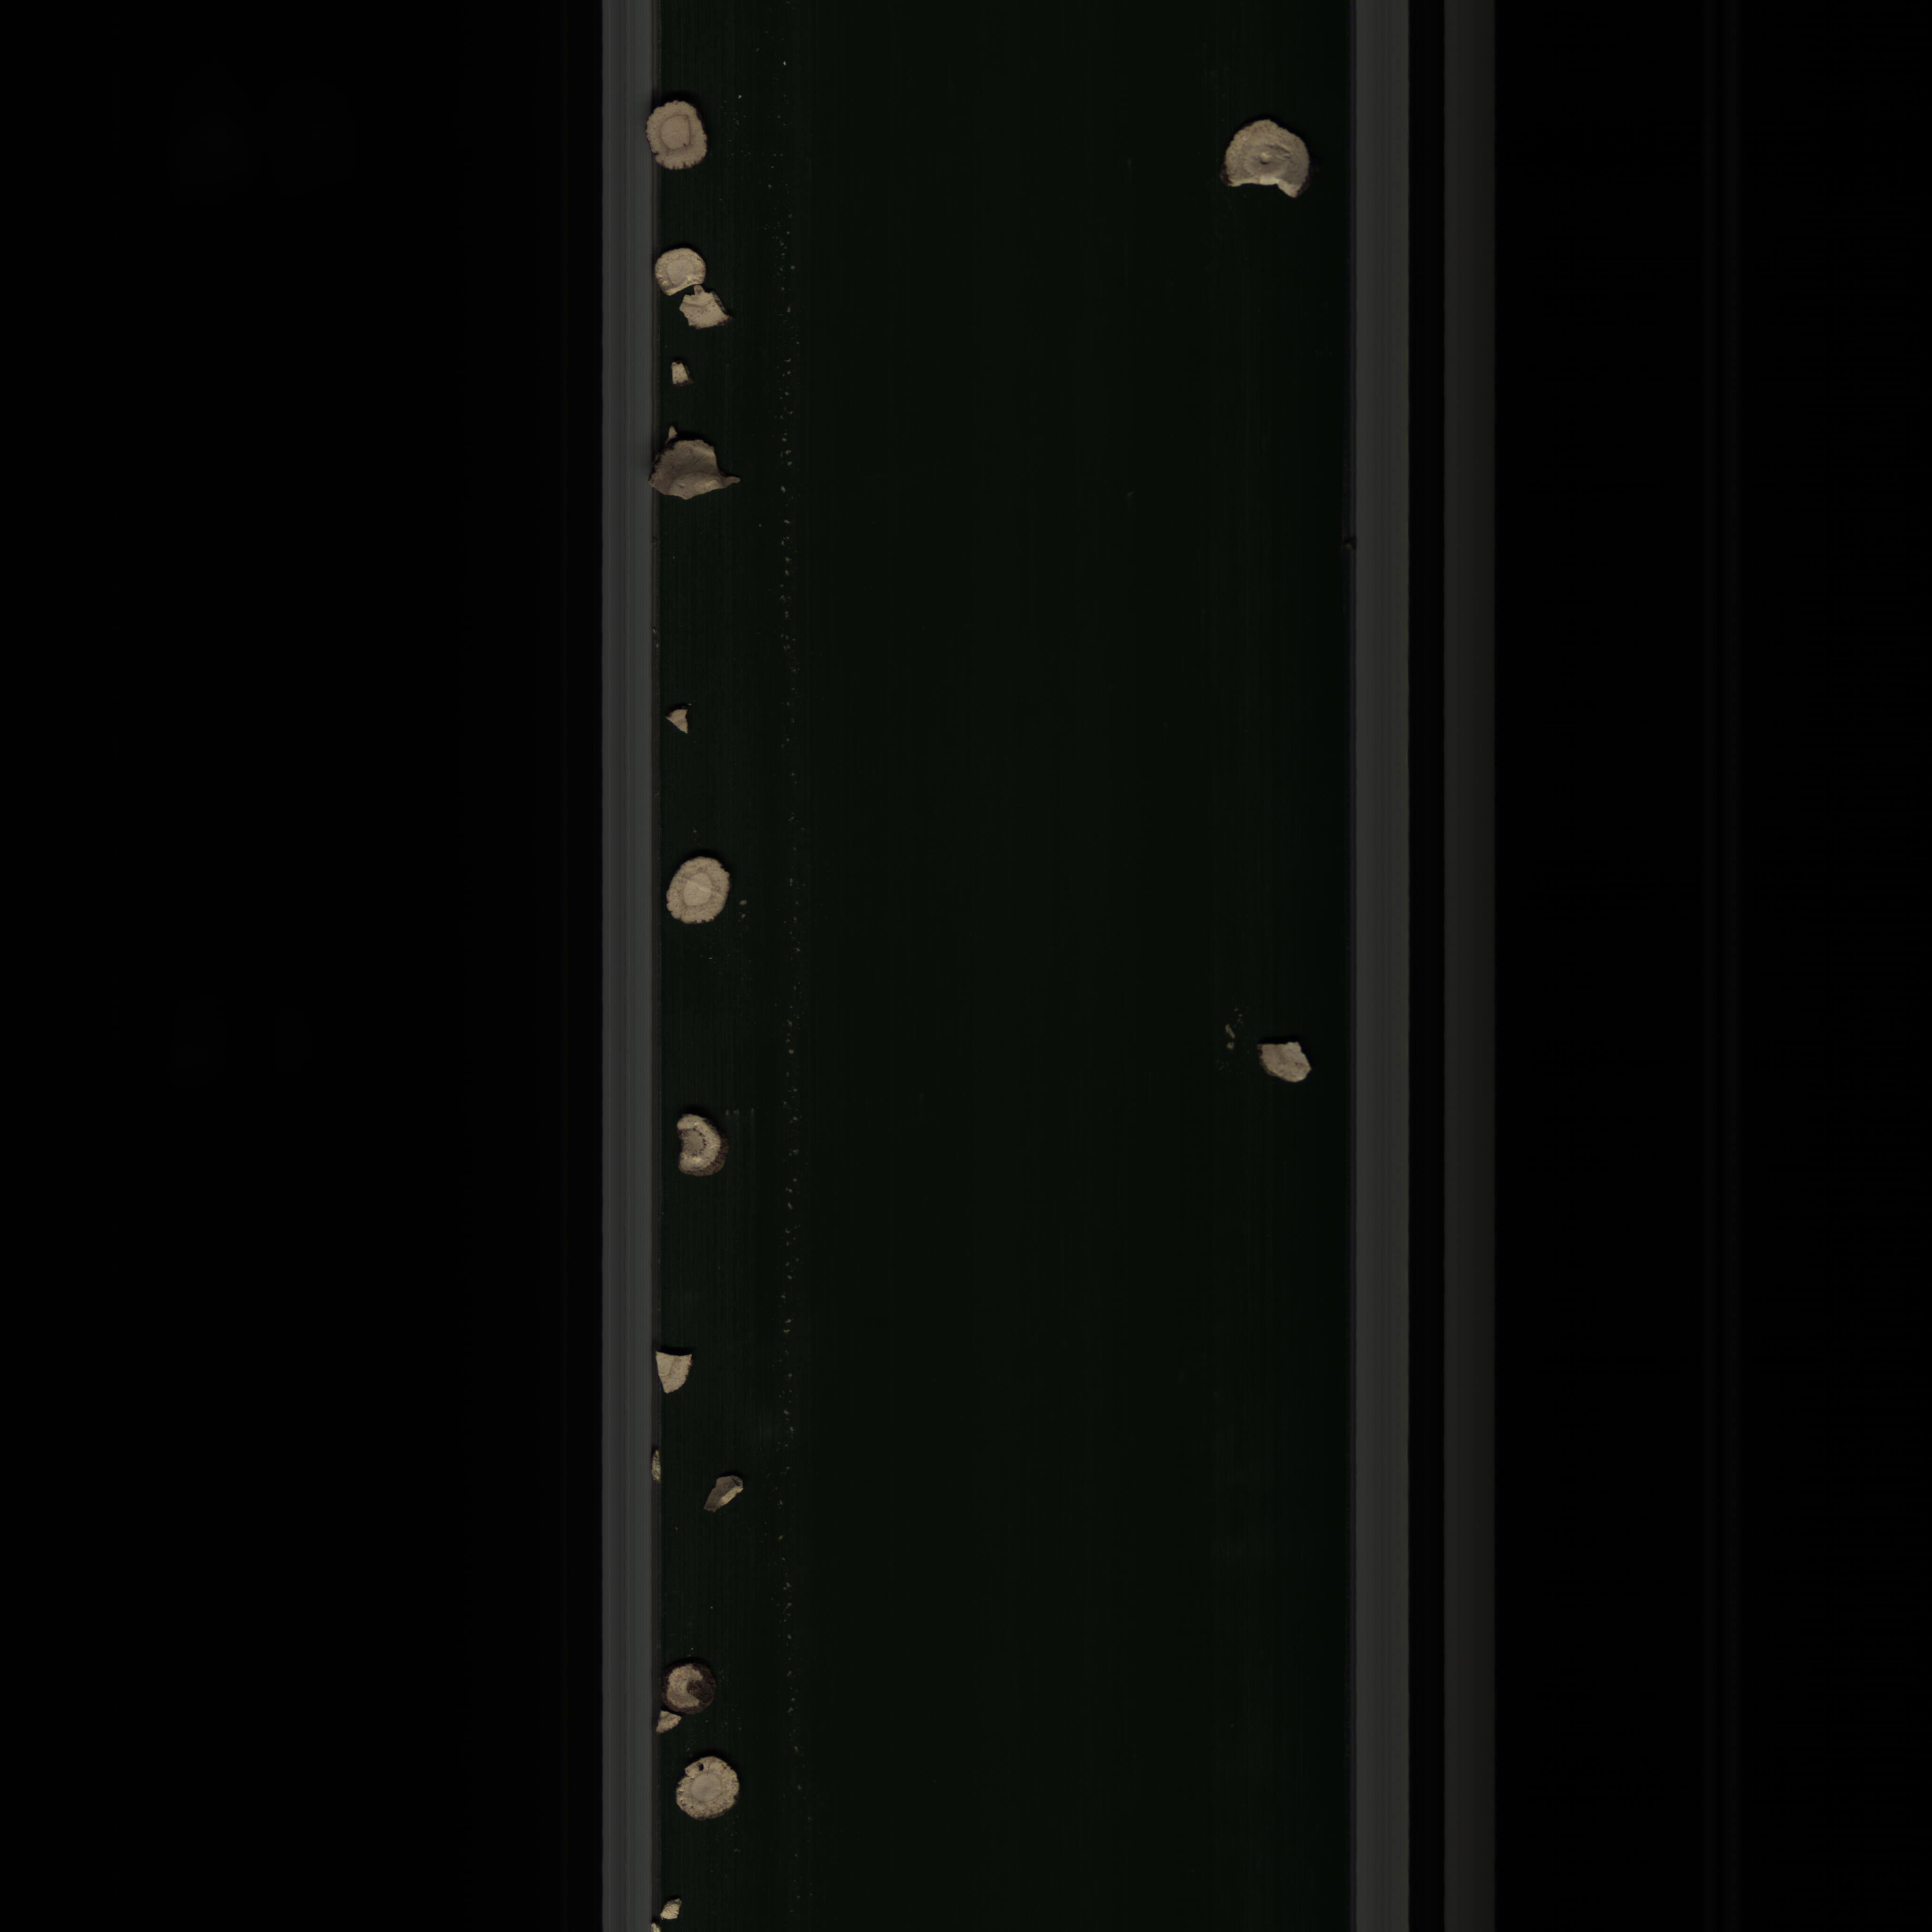bark: (692, 1463, 761, 1522), (660, 1660, 727, 1713)
debris: (1219, 111, 1329, 207), (651, 239, 741, 340), (655, 428, 743, 510), (1253, 1030, 1318, 1088), (651, 1341, 709, 1394)
distortion: (669, 1752, 754, 1826)
moldy: (637, 104, 717, 172), (672, 1109, 740, 1185)
